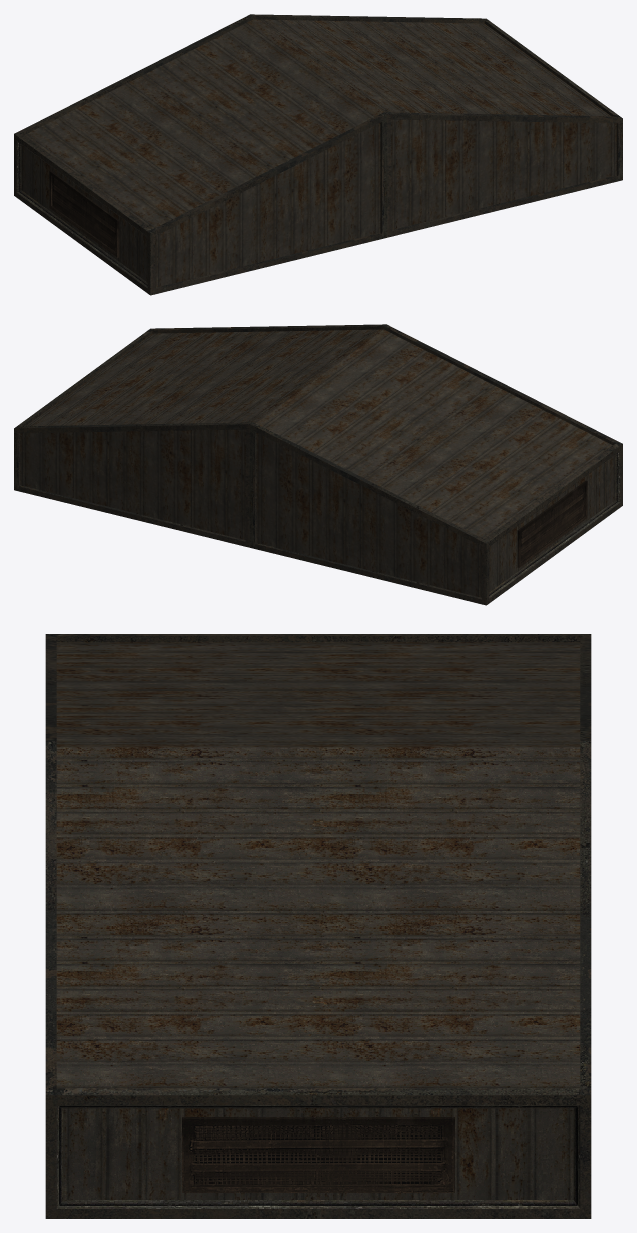
File: roof_mh_4_b_1.glb
The picture shows the model from 3 angles, top to bottom: view 1: azimuth 30°, elevation 25°; view 2: azimuth 150°, elevation 25°; view 3: azimuth 270°, elevation 25°; orthographic projection. The views are drawn at different scales.
Visible parts, largest first — view 1: roof_mh_4_b_1; view 2: roof_mh_4_b_1; view 3: roof_mh_4_b_1.
Part boxes in pixels (x1,y1,x2,y2): roof_mh_4_b_1: (14, 14, 622, 295); roof_mh_4_b_1: (14, 324, 622, 605); roof_mh_4_b_1: (45, 634, 591, 1218).
Size of the model in its own units: 8 by 2 by 4.
6 materials, 6 textured.
